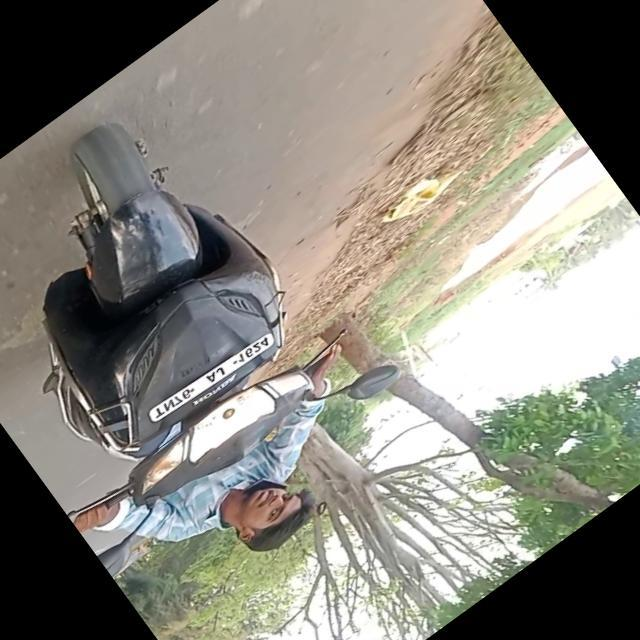USING_MOBILE: (212, 458, 322, 563)
